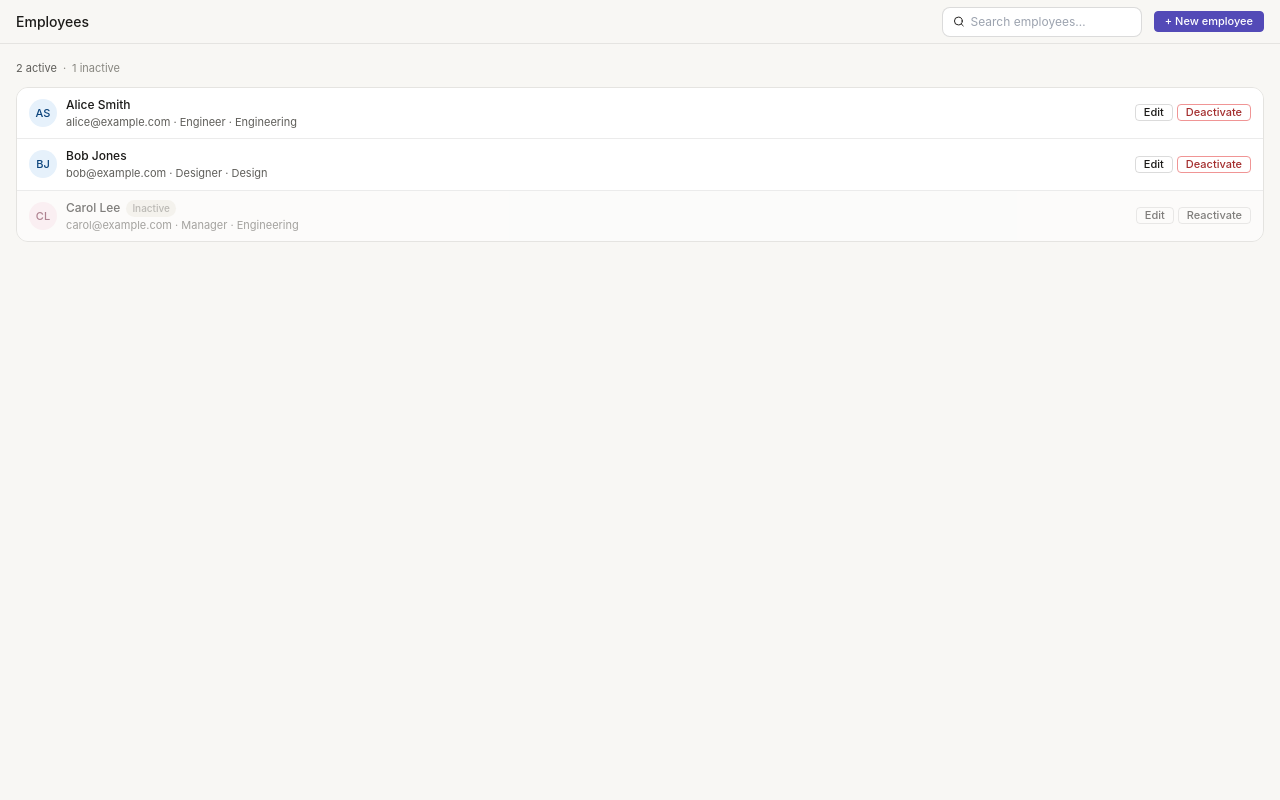
Test: EmployeesPage › closes modal when Cancel is clicked
Expected: the text "Alice Smith" is shown, [66, 96, 130, 112]
Click the button "+ New employee" at (1209, 22), box [1154, 11, 1264, 32]
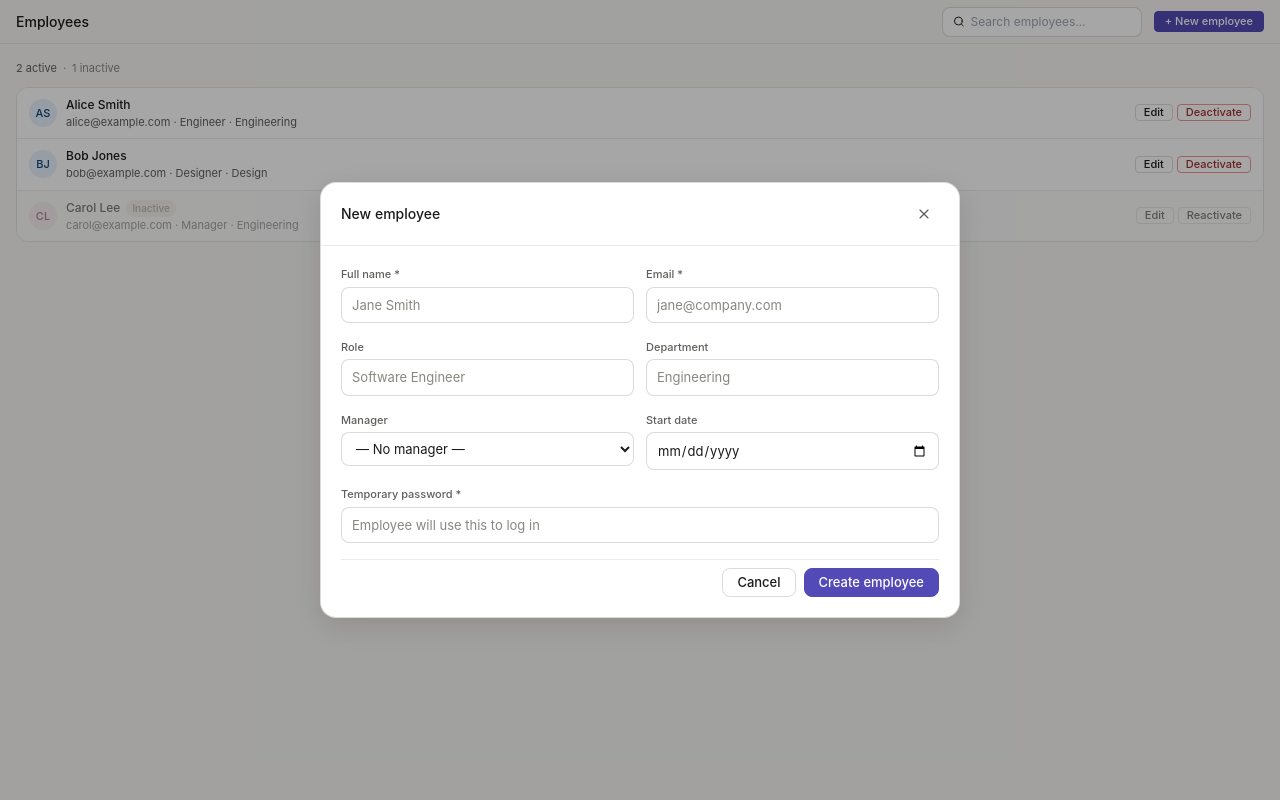
Click the button "Cancel" at (759, 582), box [722, 568, 796, 597]
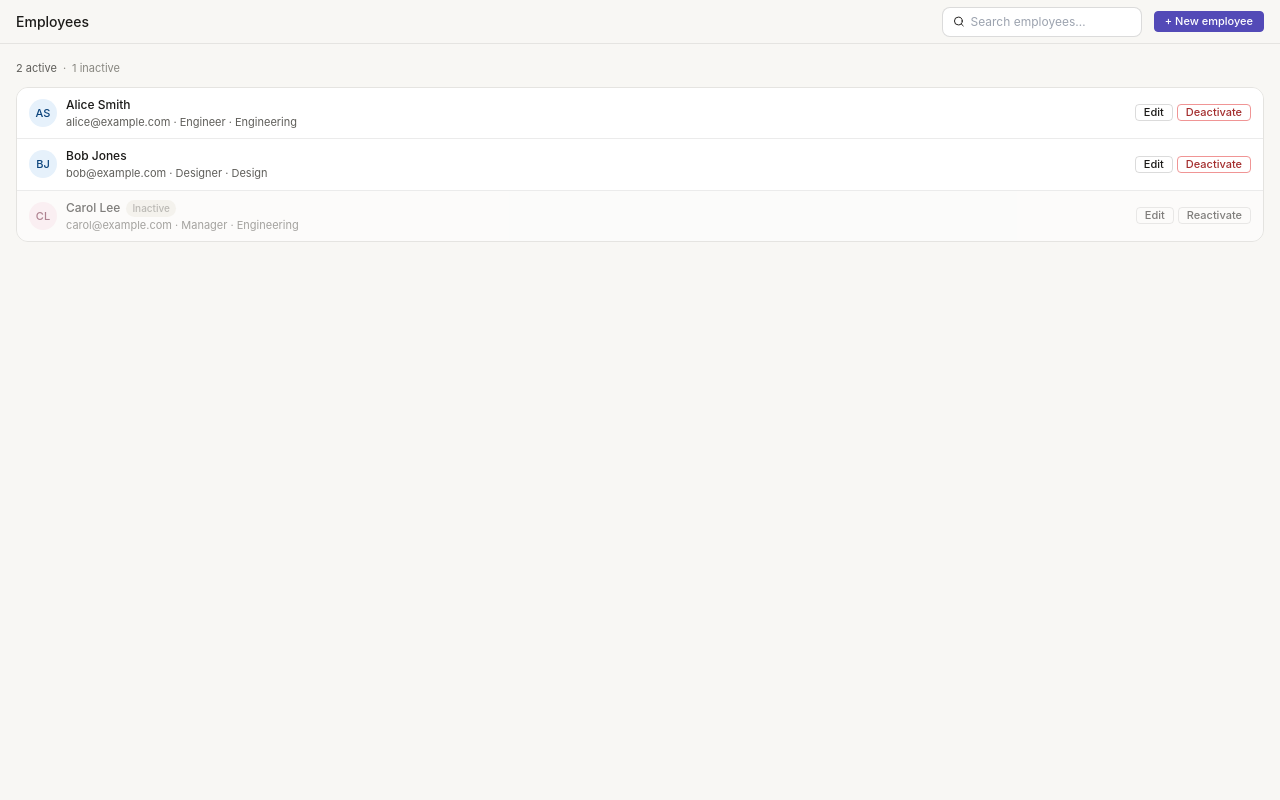
Expected: the dialog is gone
